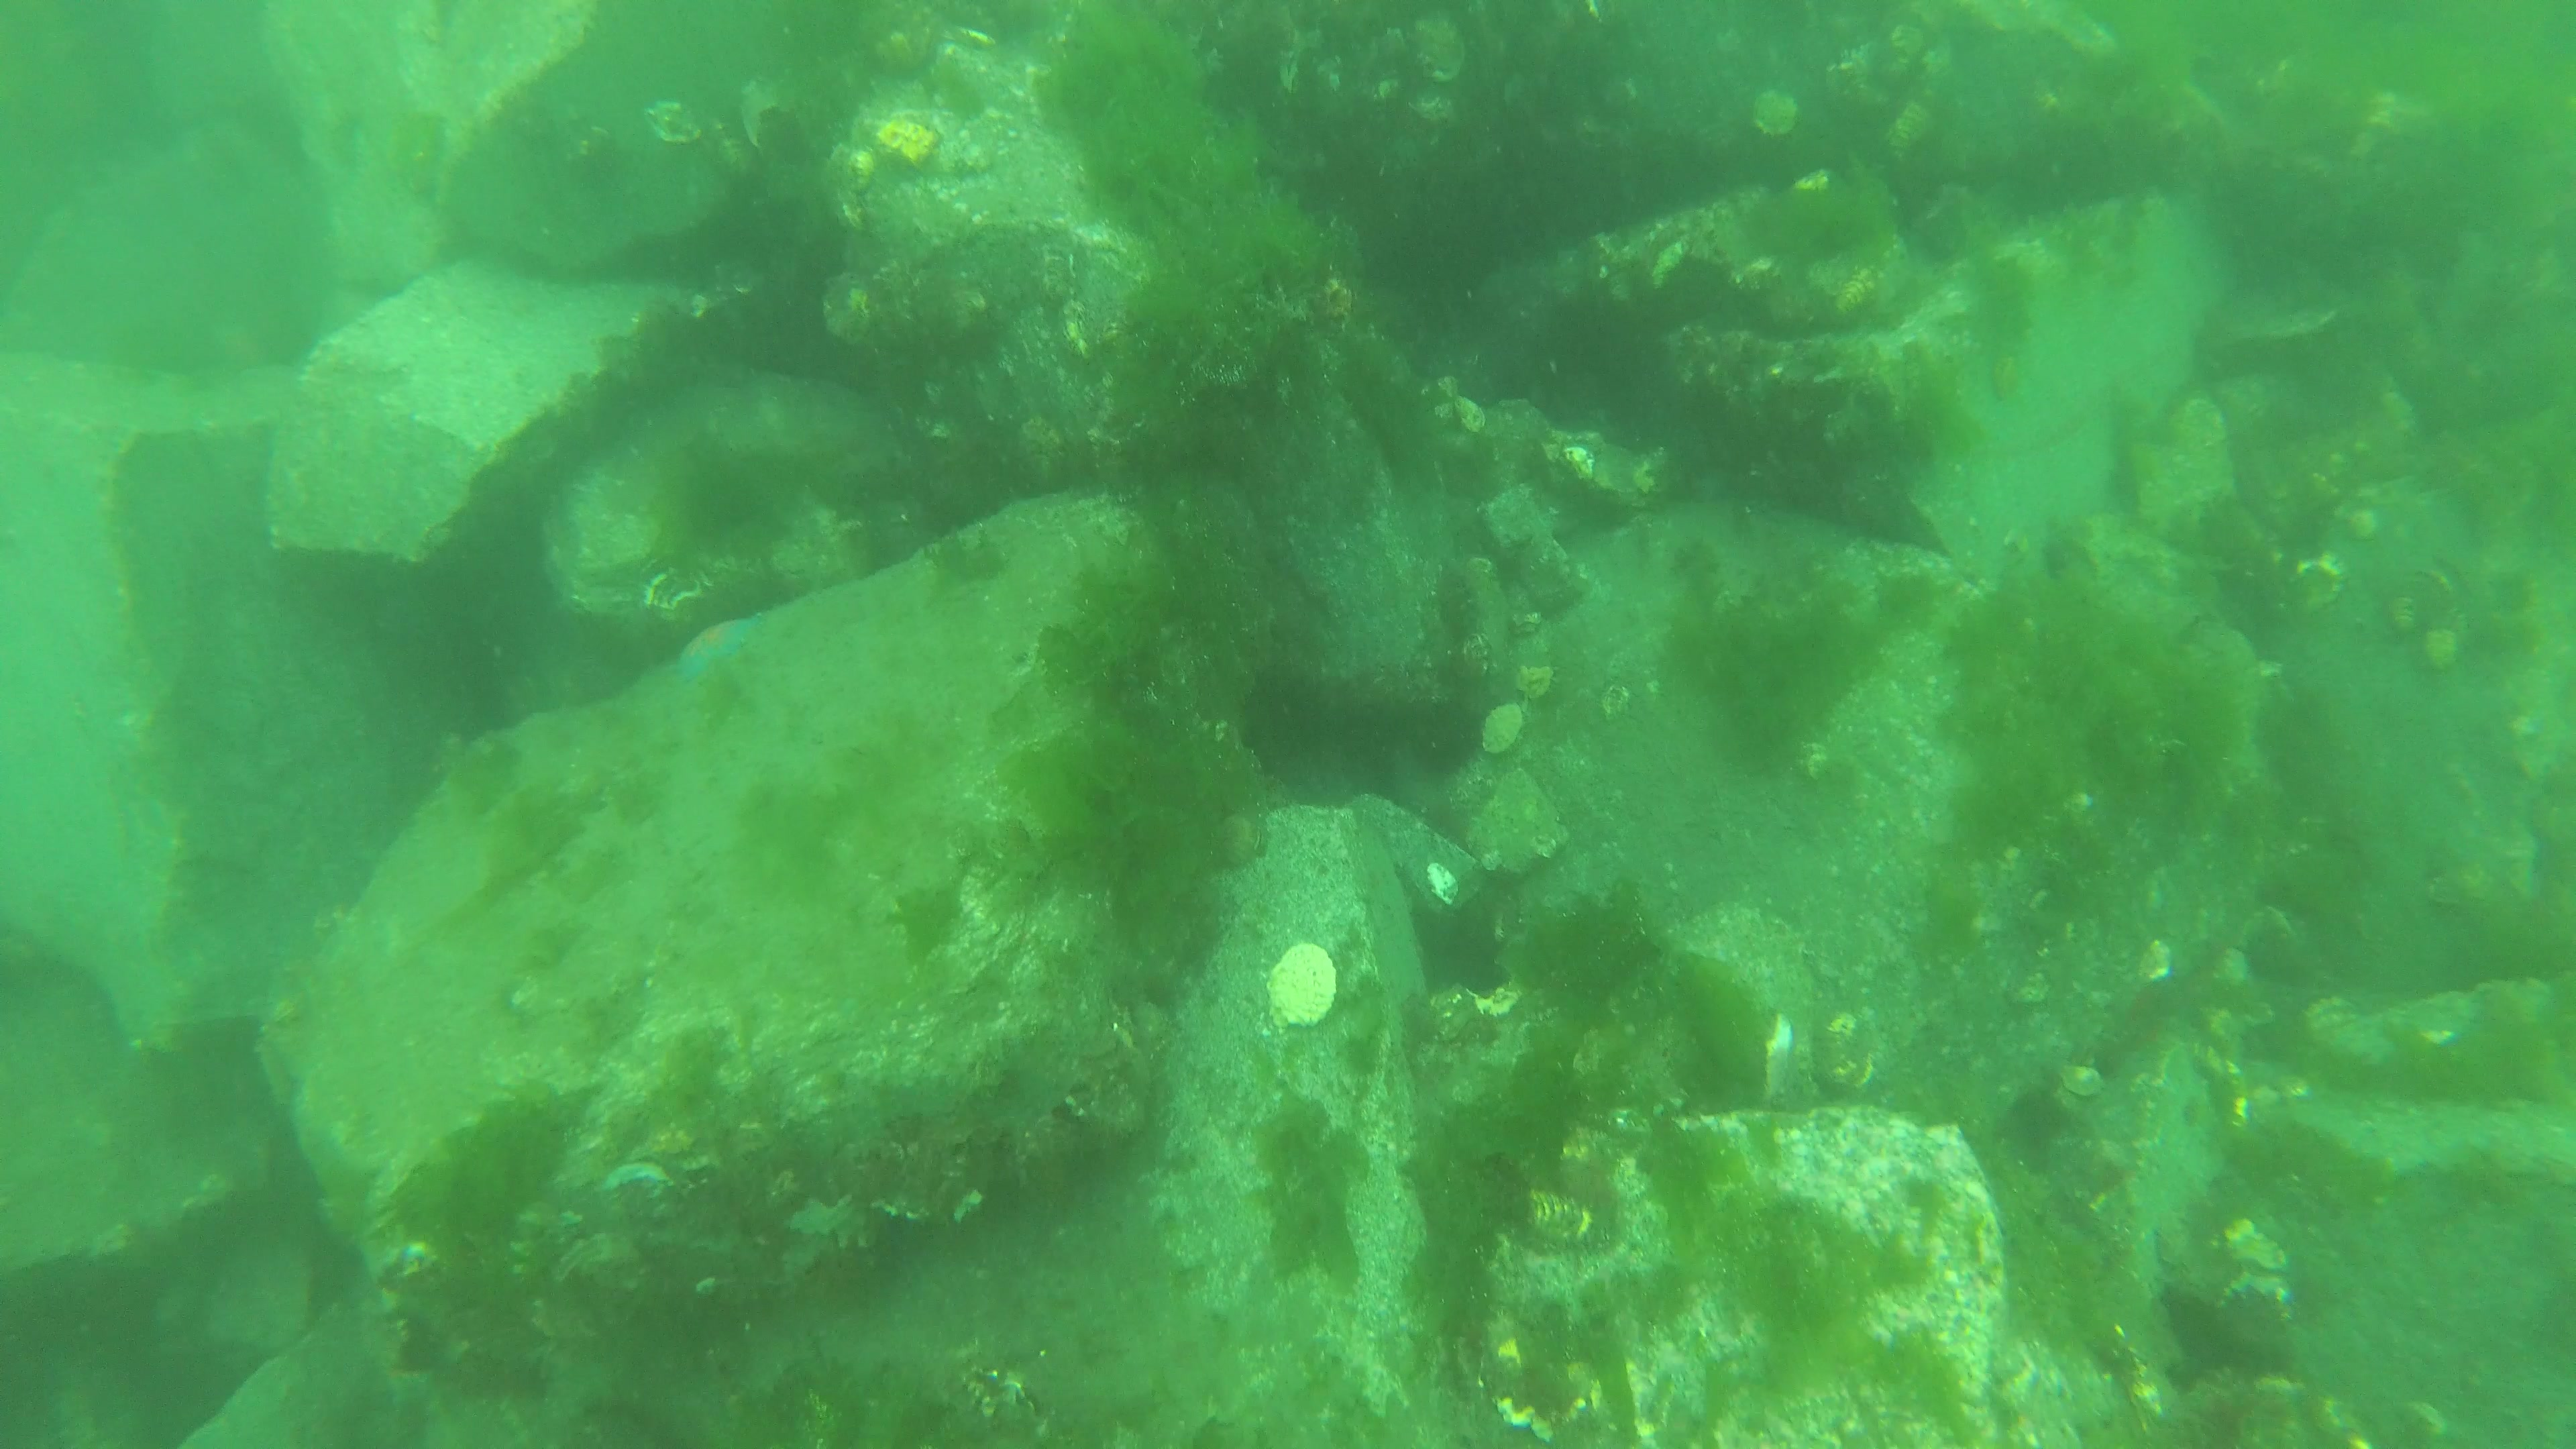scallop: (1256, 936, 1346, 1040)
starfish: (667, 609, 771, 686)
